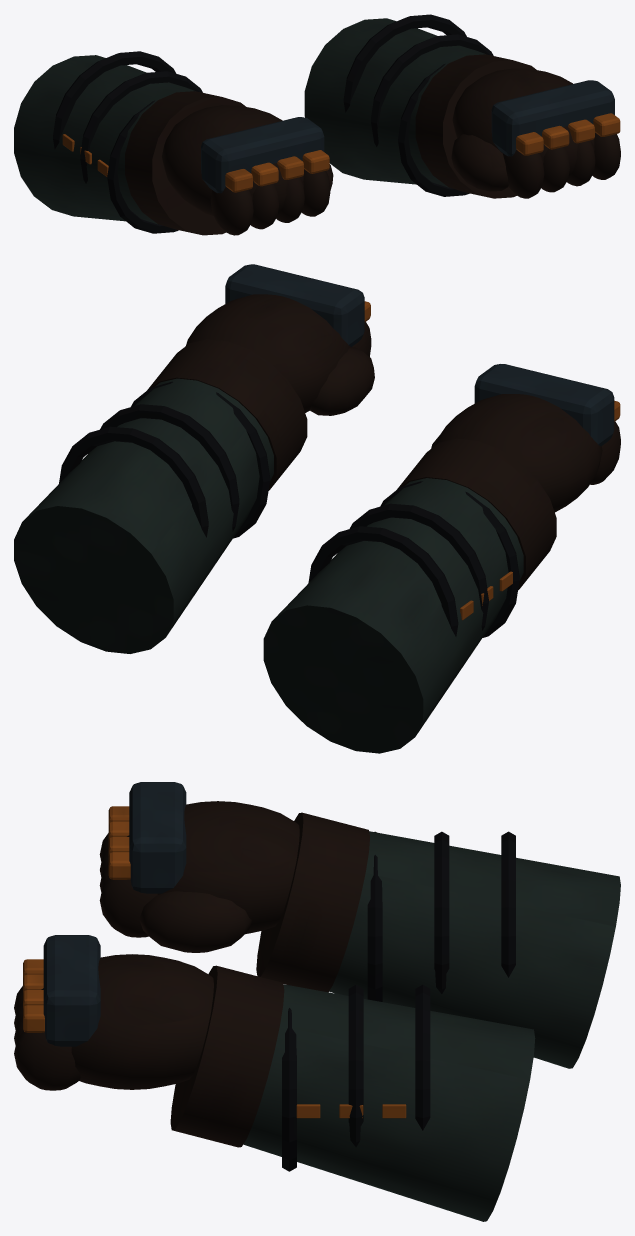
The model's file is fist.glb.
3 renders of one model, top to bottom at view 1: azimuth 30°, elevation 25°; view 2: azimuth 150°, elevation 25°; view 3: azimuth 270°, elevation 25°, orthographic. The views are drawn at different scales.
Parts seen in each view (by area): view 1: fists; view 2: fists; view 3: fists.
Boxes of the visible parts, box(x1,y1,x2,y2) form: fists: box(14, 14, 620, 235); fists: box(14, 264, 620, 753); fists: box(14, 782, 620, 1221).
Size of the model in its own units: 0.59 by 0.2897 by 0.6369.
Materials: 5 (5 with a texture image).
